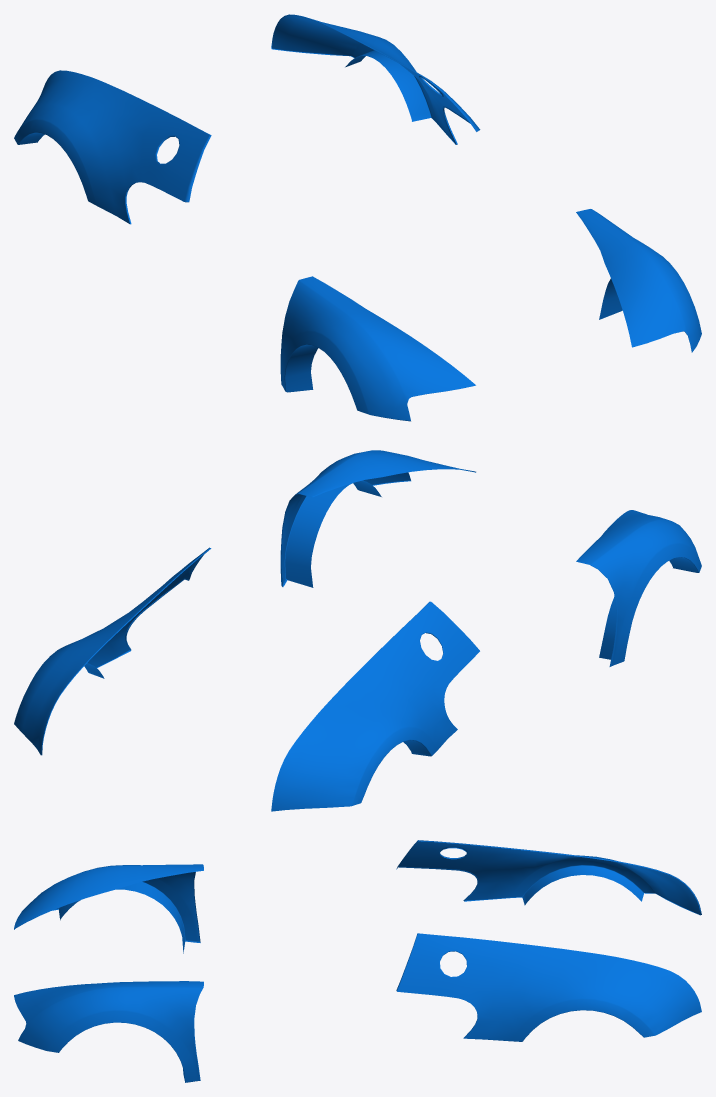
The model's file is Veyron_Fender01_Duco.fbx.
The picture shows the model from 3 angles, top to bottom: view 1: azimuth 30°, elevation 25°; view 2: azimuth 150°, elevation 25°; view 3: azimuth 270°, elevation 25°; orthographic projection. The views are drawn at different scales.
Parts seen in each view (by area): view 1: Veyron_Fender01_Duco; view 2: Veyron_Fender01_Duco; view 3: Veyron_Fender01_Duco.
Part boxes in pixels (x1,y1,x2,y2): Veyron_Fender01_Duco: [14, 14, 701, 421]; Veyron_Fender01_Duco: [14, 450, 701, 811]; Veyron_Fender01_Duco: [14, 840, 701, 1082].
Bounding box in the file's own units: 158 × 32.31 × 78.89.
